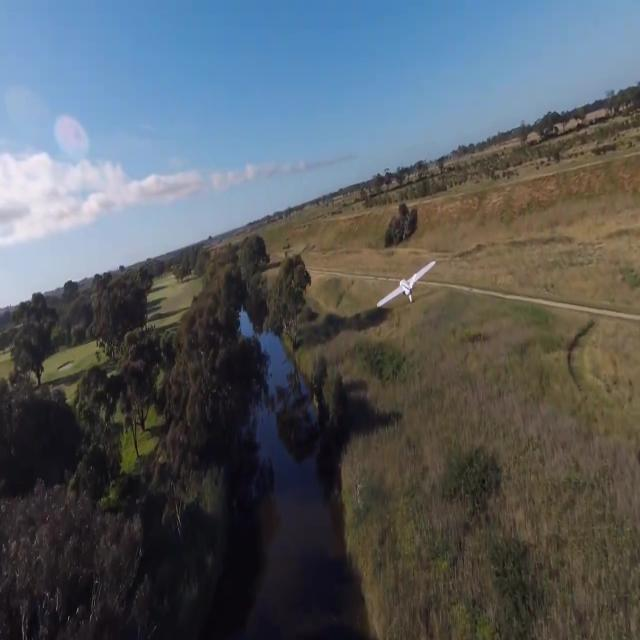iha: (376, 260, 436, 309)
